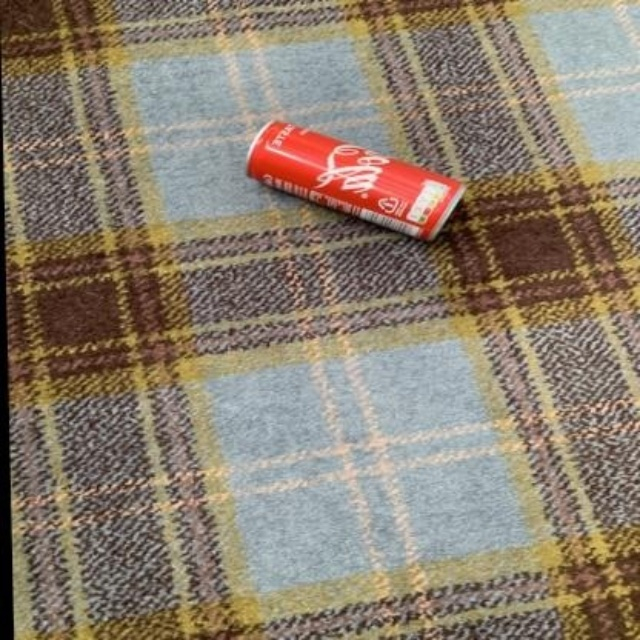trash: (246, 122, 465, 238)
